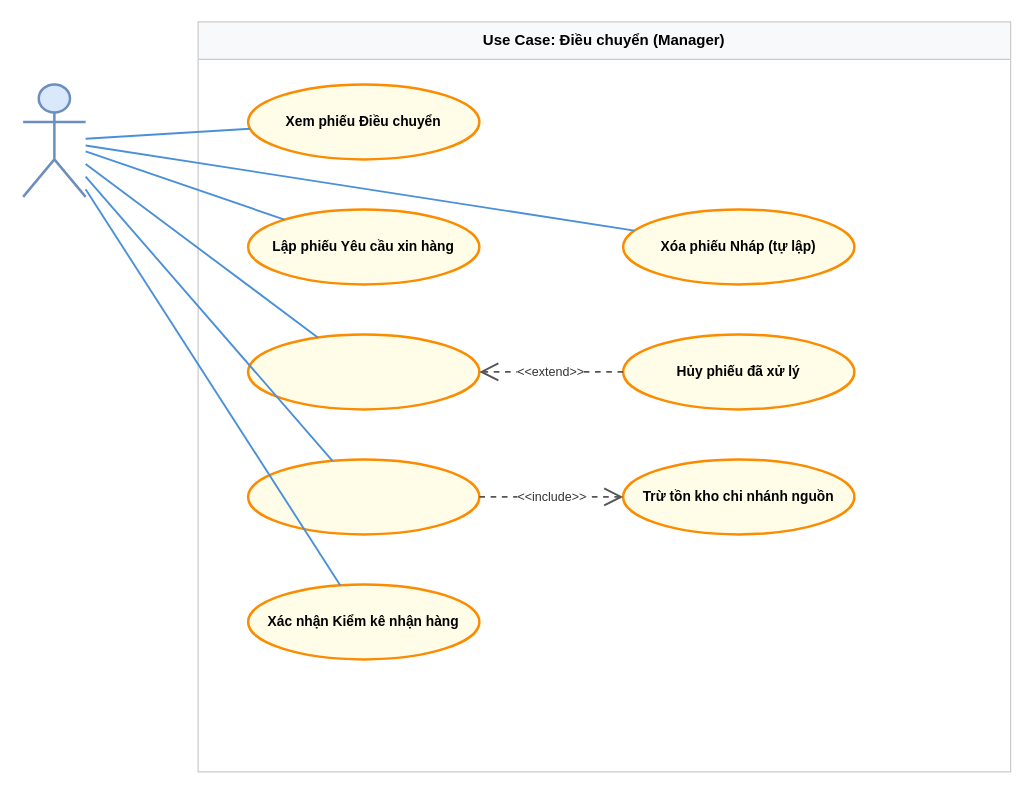
Image size: 1033x794. Some labels were removed from this diagram. Here are the shapes that lost their labels. From the top down, the centre of each, then its label:
At point (53, 140): "Manager".
At point (363, 371): "Duyệt yêu cầu Xin hàng (Kho Đích)".
At point (363, 496): "Duyệt Xuất kho (Kho Nguồn)".
